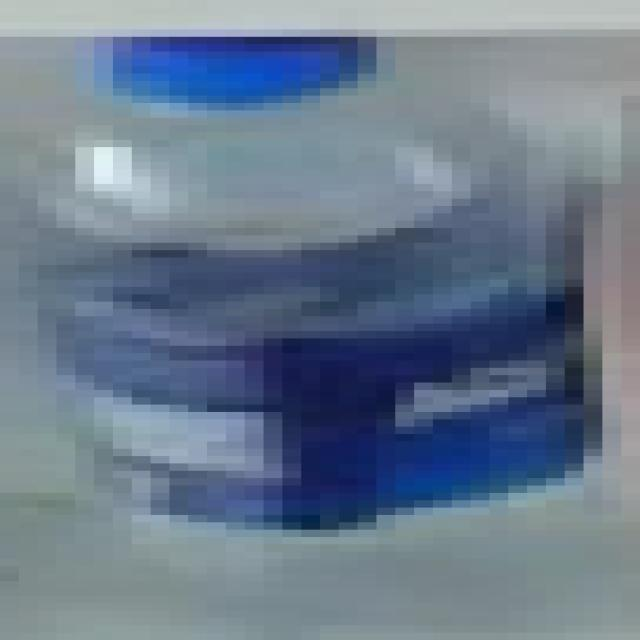Plastic: (54, 39, 569, 605)
